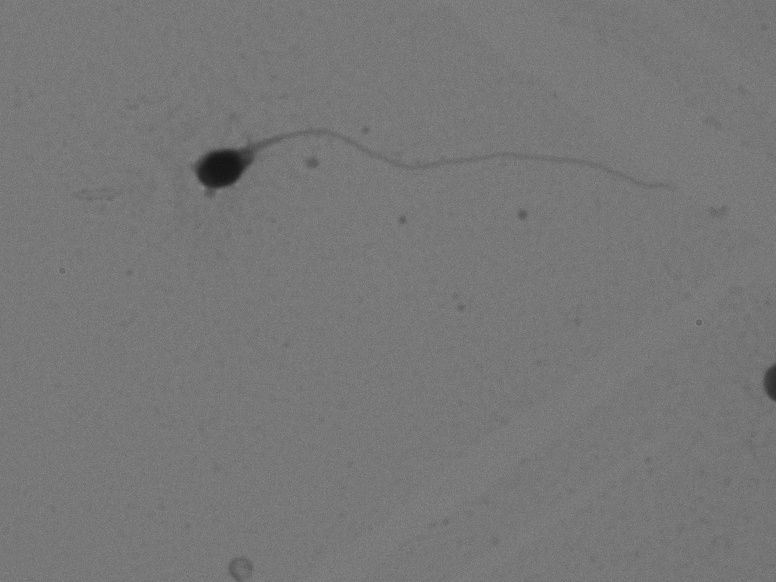Normal: (166, 79, 719, 269)
